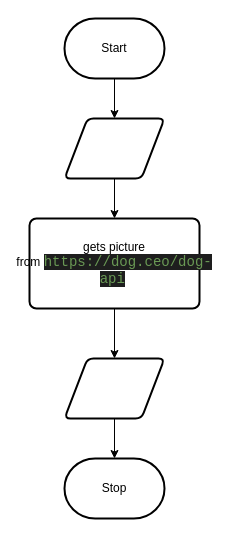
Some shapes in this 229 by 536 pixel diagram are drawn without their labels. Each missing label, with the box of its shape:
Output dog picture: (63, 357, 165, 419)
reload page: (63, 117, 165, 179)
